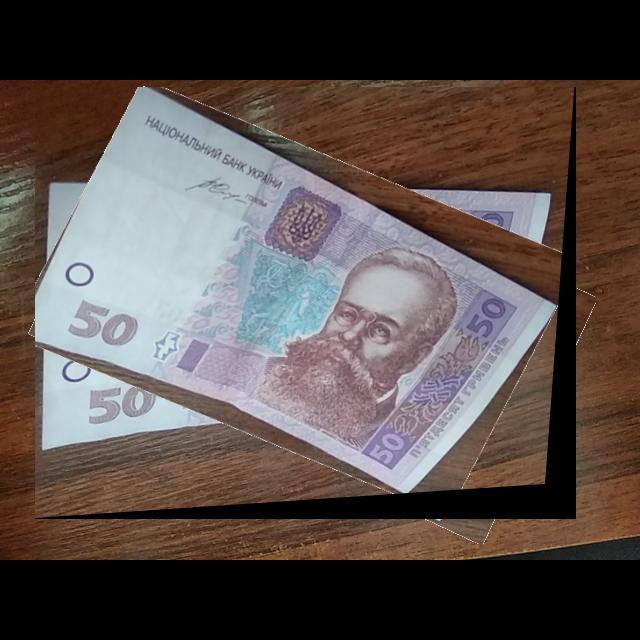50uah: (35, 87, 562, 499)
